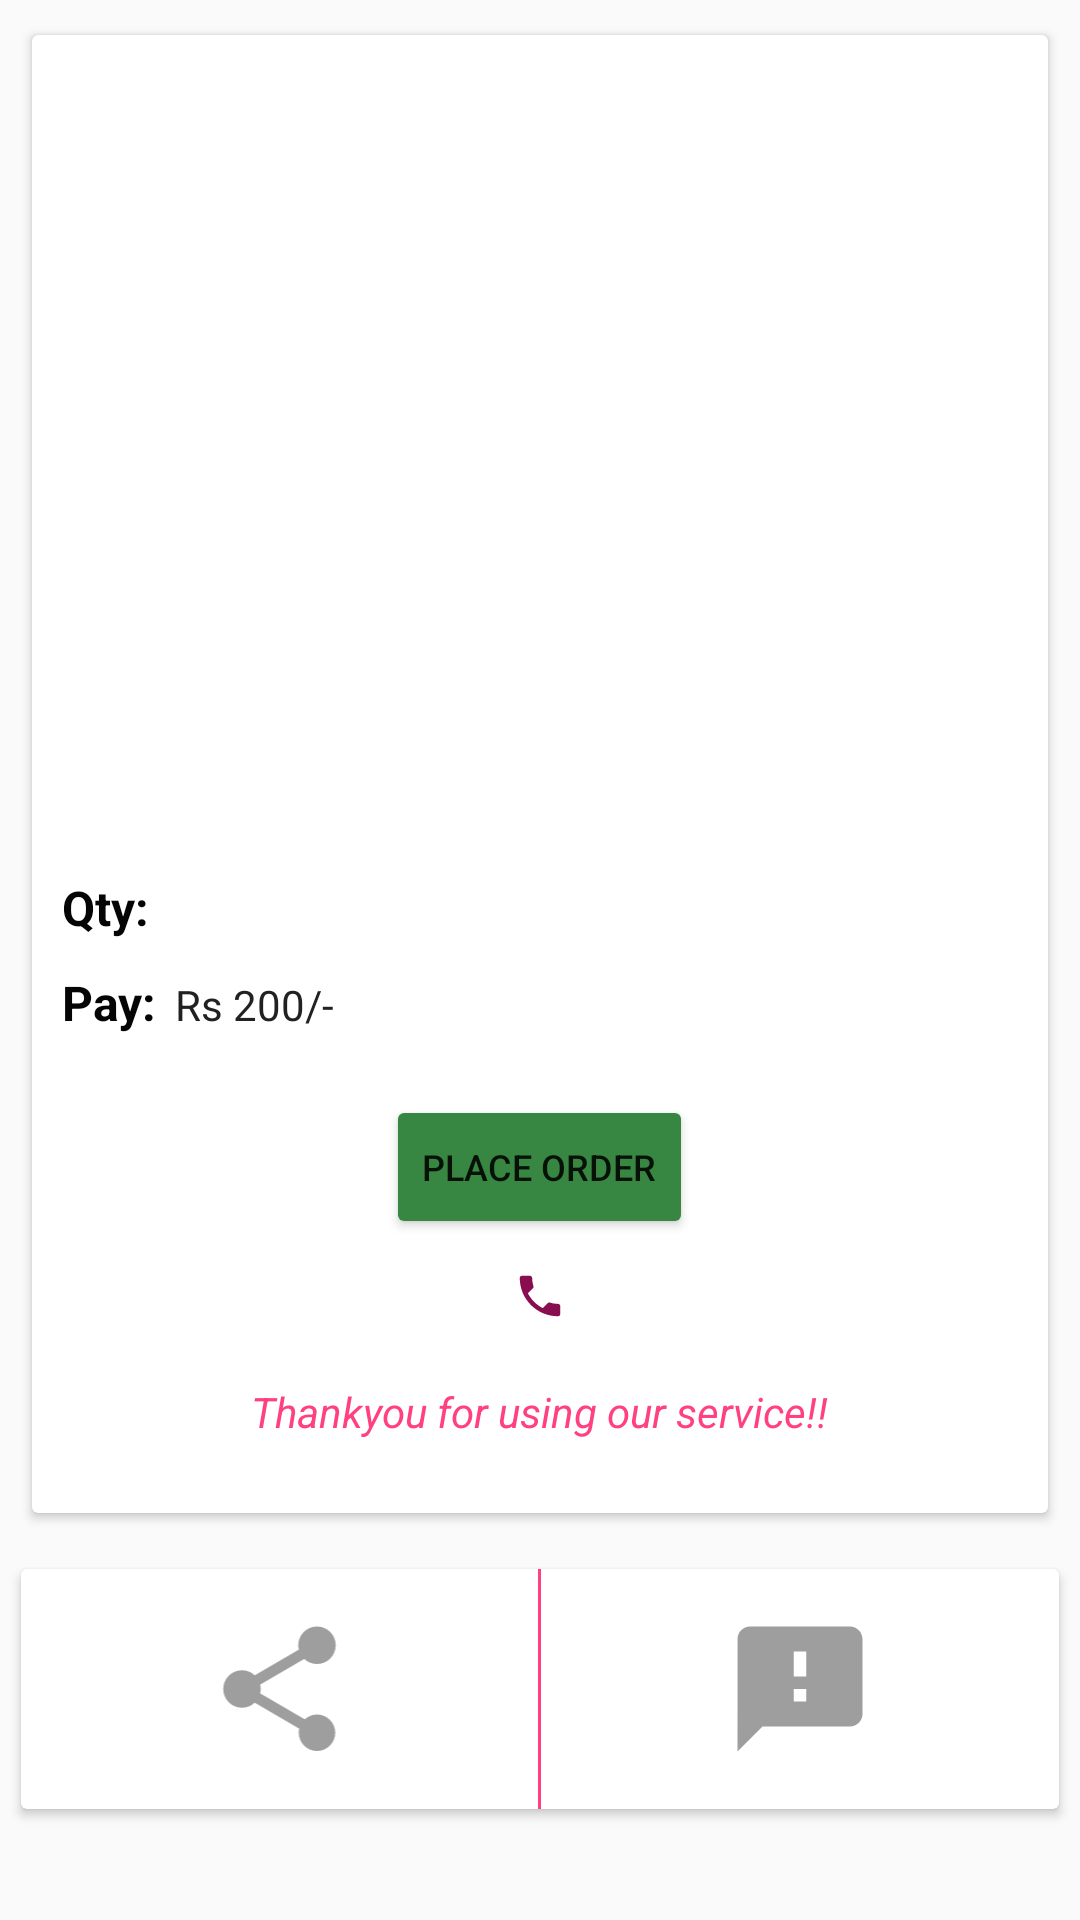

Named icons in this screenshot (1080 x 1920) and their centers, [x,y]:
call: [540,1296]
feedback: [800,1688]
share: [279,1688]
